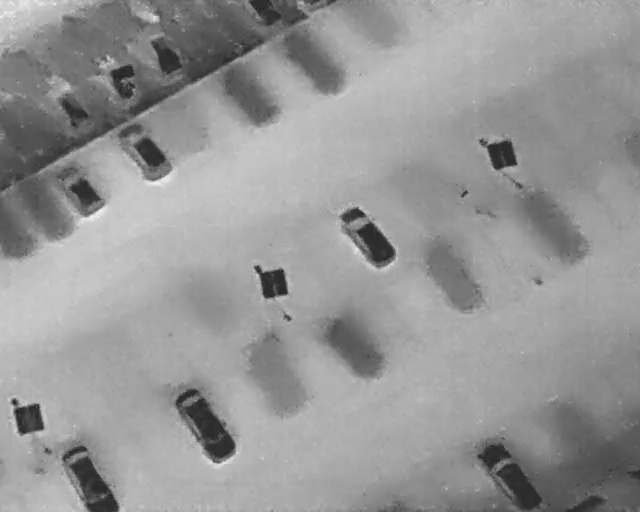Car: (168, 380, 245, 471), (330, 198, 402, 277), (111, 113, 178, 189), (475, 440, 543, 510), (59, 444, 122, 510), (50, 158, 109, 223), (96, 57, 145, 107), (142, 26, 187, 79), (51, 83, 96, 133), (242, 0, 283, 27)
